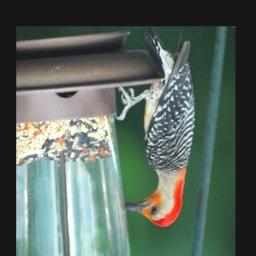Woodpecker: (116, 29, 198, 228)
